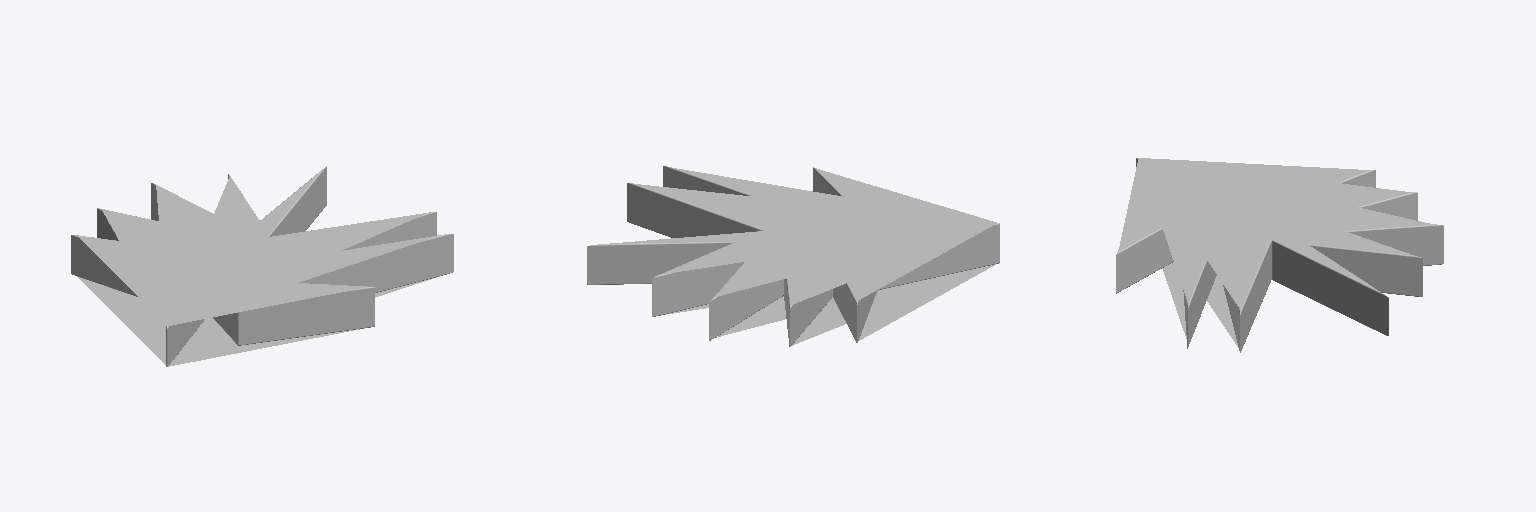
Rendered from liść.obj.
The picture shows the model from 3 angles: view 1: azimuth 30°, elevation 25°; view 2: azimuth 150°, elevation 25°; view 3: azimuth 270°, elevation 25°; orthographic projection.
Parts seen in each view (by area): view 1: Plane; view 2: Plane; view 3: Plane.
Part boxes in pixels (left/top/right/bottom): Plane: left=71, top=166, right=453, bottom=366; Plane: left=587, top=166, right=999, bottom=346; Plane: left=1116, top=158, right=1443, bottom=352.
Bounding box in the file's own units: 1.6 × 0.194 × 1.42.